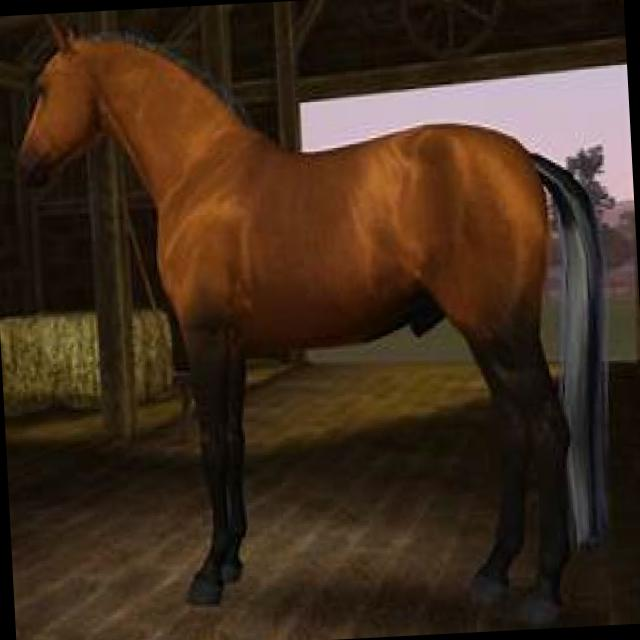horse: (5, 0, 622, 640)
